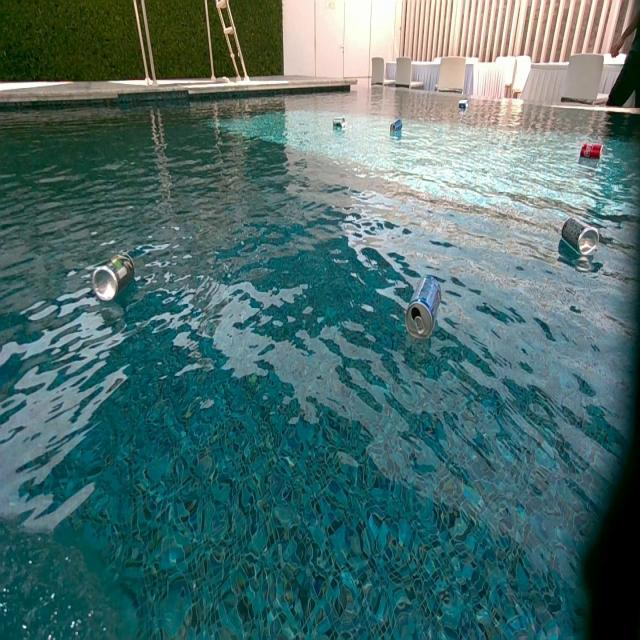Cans: (406, 274, 446, 344), (92, 255, 135, 302), (560, 217, 600, 255), (576, 226, 601, 256), (581, 144, 602, 160), (387, 122, 401, 136), (334, 116, 347, 130), (390, 118, 403, 132), (458, 100, 468, 110)
